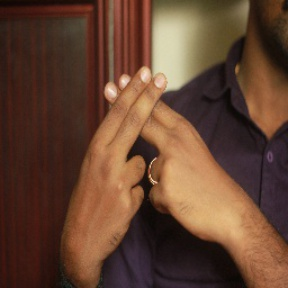F: (73, 60, 211, 179)
